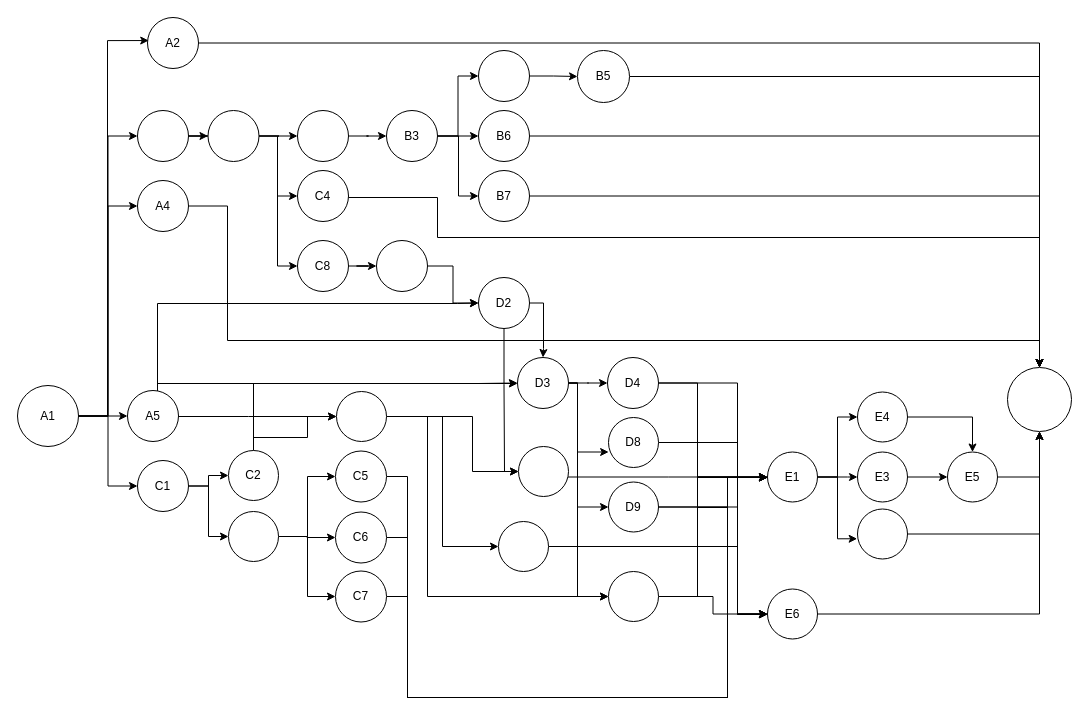
Image size: 1089x723. Some labels were removed from this diagram. Here are the shapes that lost their labels. From the top down, the centre of each, then its label:
[504,76]: B4
[162,136]: A3
[233,136]: B1
[322,136]: B2
[402,266]: C9
[361,416]: D1
[1039,399]: FIn
[543,471]: D5
[253,536]: C3
[523,546]: D6
[882,533]: E2
[633,596]: D7
